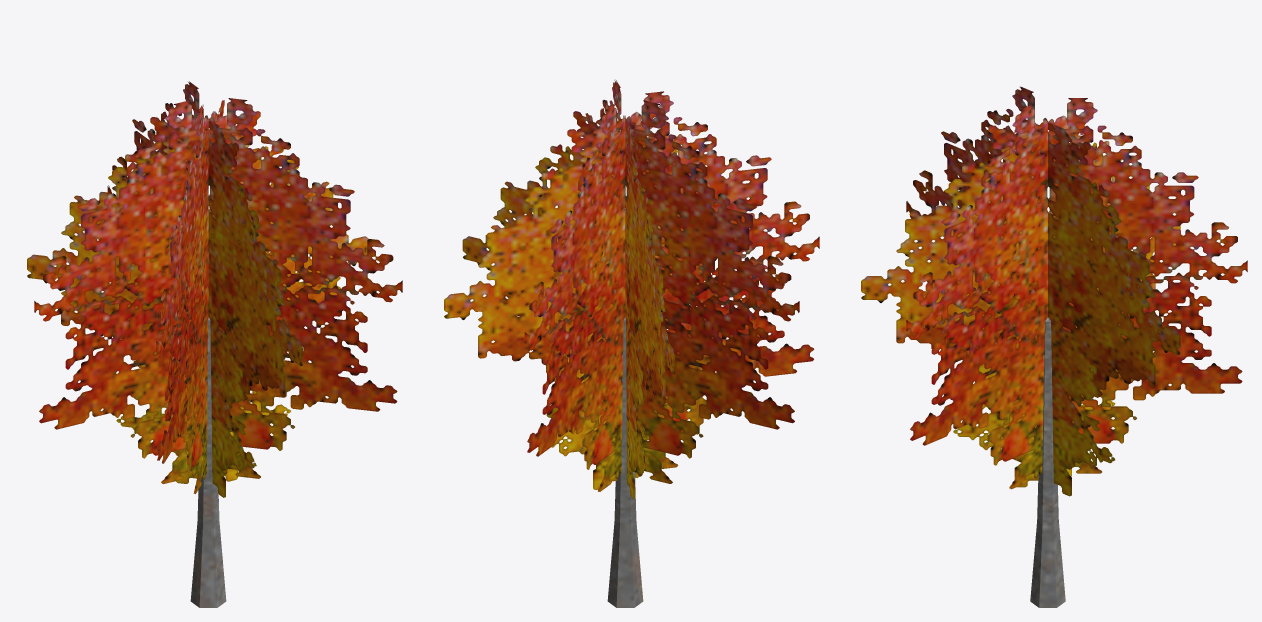
Rendered from tree31.glb.
3 views of the same model, side by side, from view 1: azimuth 30°, elevation 25°; view 2: azimuth 150°, elevation 25°; view 3: azimuth 270°, elevation 25° (orthographic).
Visible parts, largest first — view 1: tree31; view 2: tree31; view 3: tree31.
Boxes of the visible parts, left/top/right/bottom form: tree31: left=27, top=81, right=402, bottom=607; tree31: left=444, top=80, right=819, bottom=607; tree31: left=861, top=86, right=1247, bottom=607.
Bounding box in the file's own units: 9 × 12.5 × 9.
Materials: 1 (1 with a texture image).
